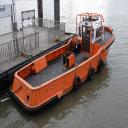tugboat: (9, 13, 117, 116)
